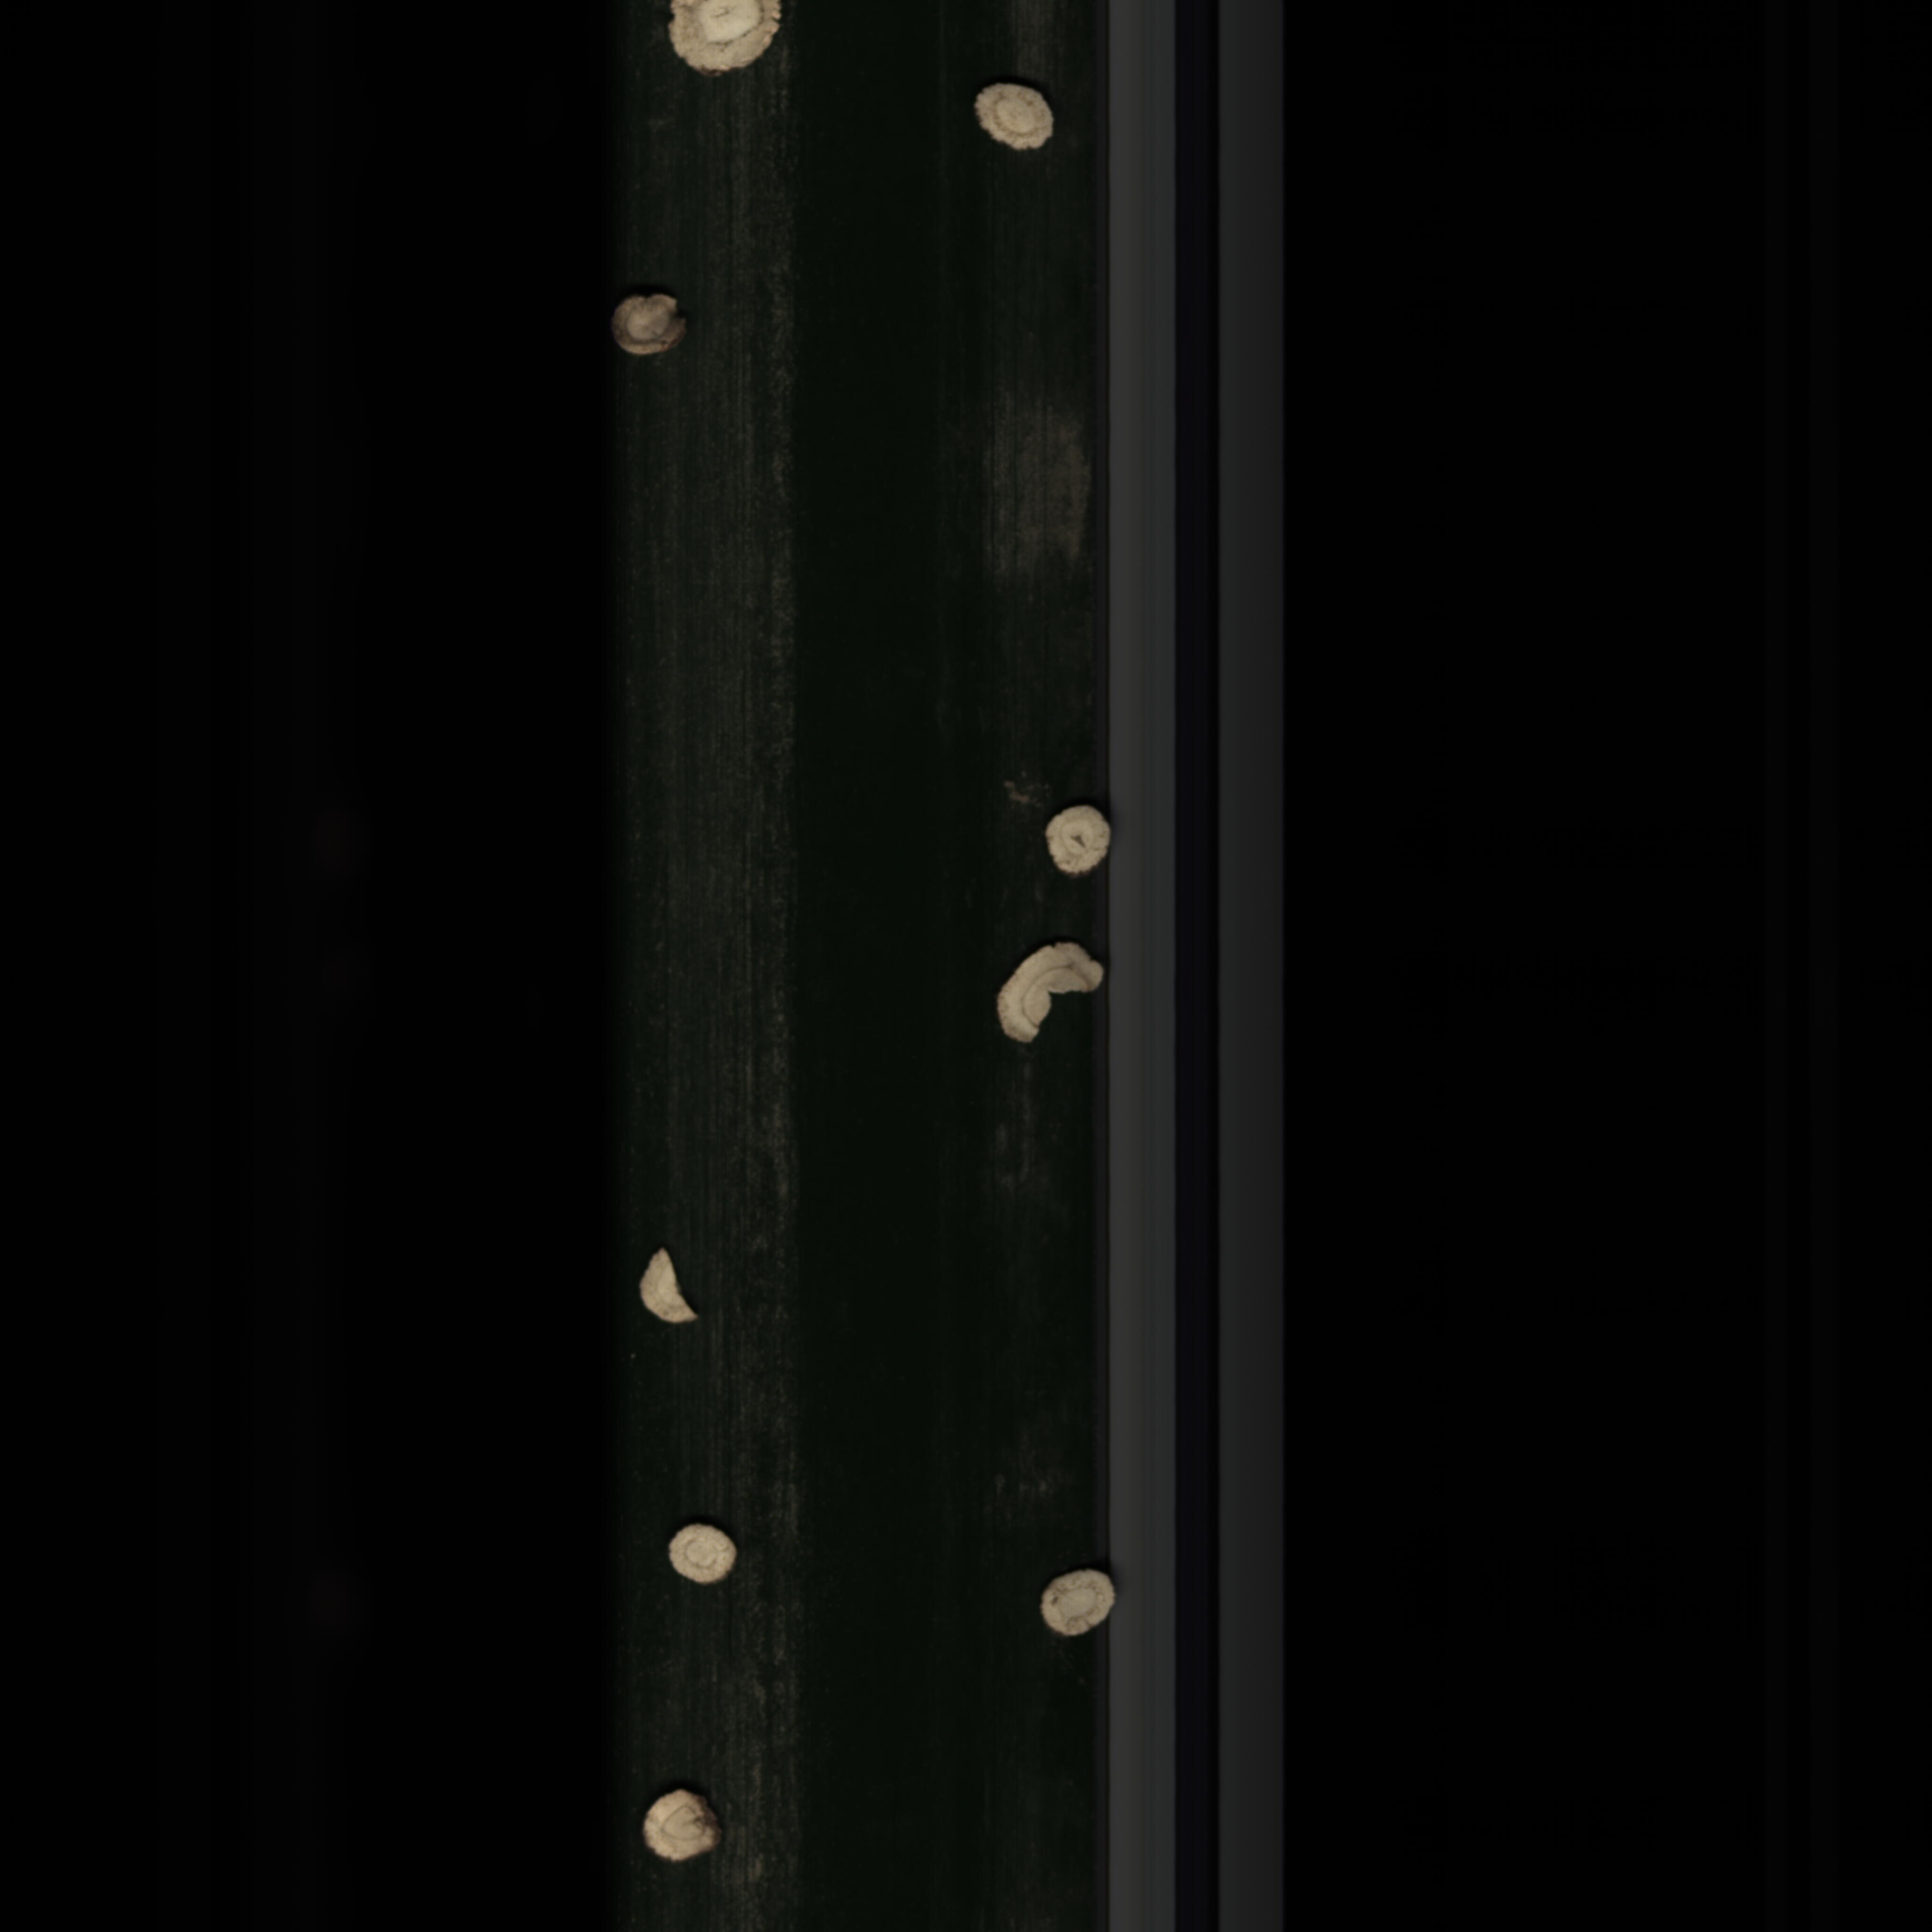debris: (987, 932, 1116, 1065), (612, 1233, 713, 1338)
moldy: (594, 285, 694, 373)
